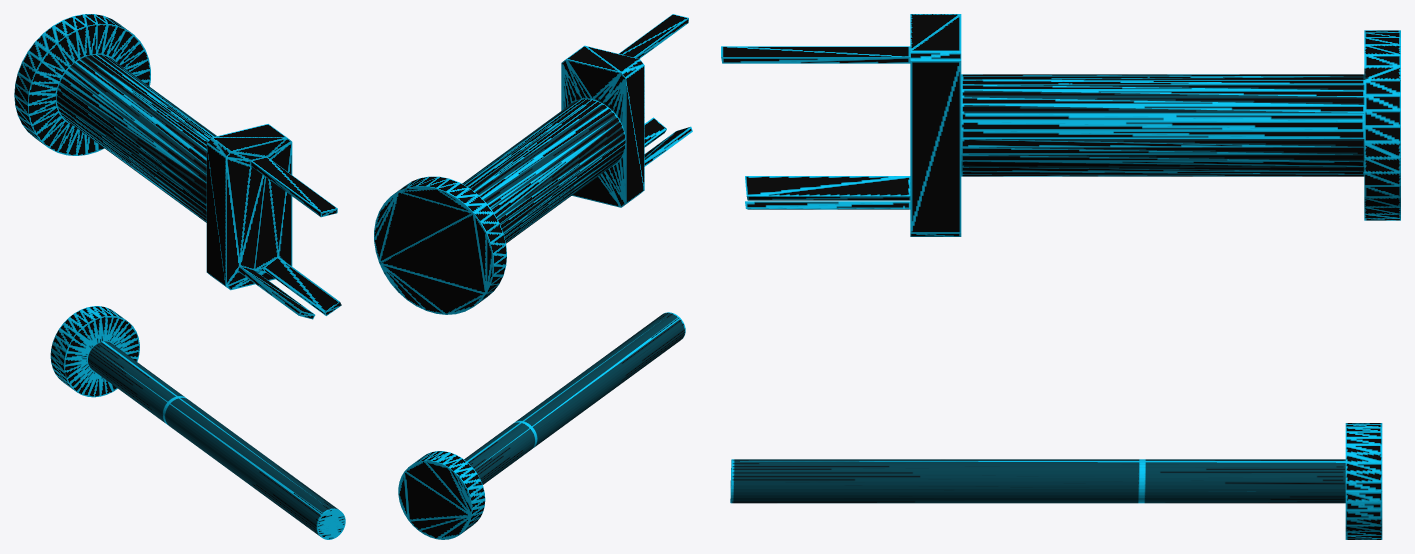
Rendered from Mold1-Ejector-M.glb.
3 views of the same model, side by side, from view 1: azimuth 30°, elevation 25°; view 2: azimuth 150°, elevation 25°; view 3: azimuth 270°, elevation 25° (orthographic). The views are drawn at different scales.
Parts seen in each view (by area): view 1: ejecteurs.002, vis.001; view 2: ejecteurs.002, vis.001; view 3: ejecteurs.002, vis.001.
Part boxes in pixels (x1,y1,x2,y2): ejecteurs.002: (14,14,341,319); vis.001: (50,306,345,539); ejecteurs.002: (374,14,692,314); vis.001: (398,312,685,539); ejecteurs.002: (721,14,1400,236); vis.001: (730,423,1382,539).
Size of the model in its own units: 0.6112 by 1.77 by 2.19.
Materials: 1 (1 with a texture image).
